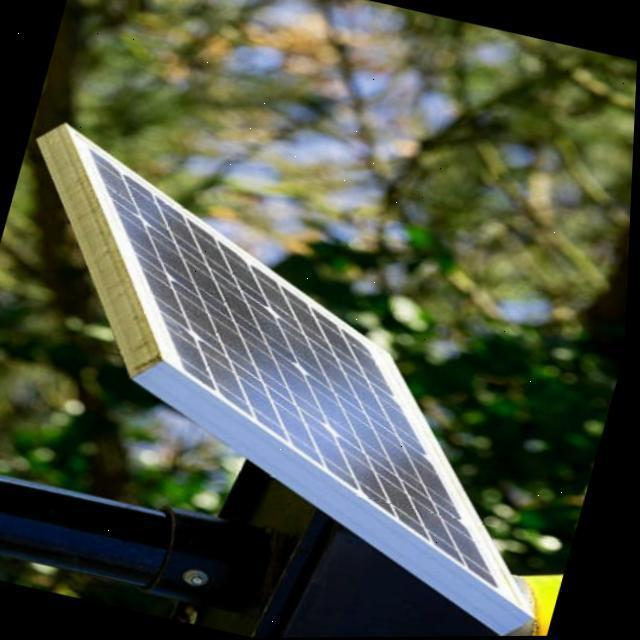Normal Solar Panel: (0, 123, 634, 624)
